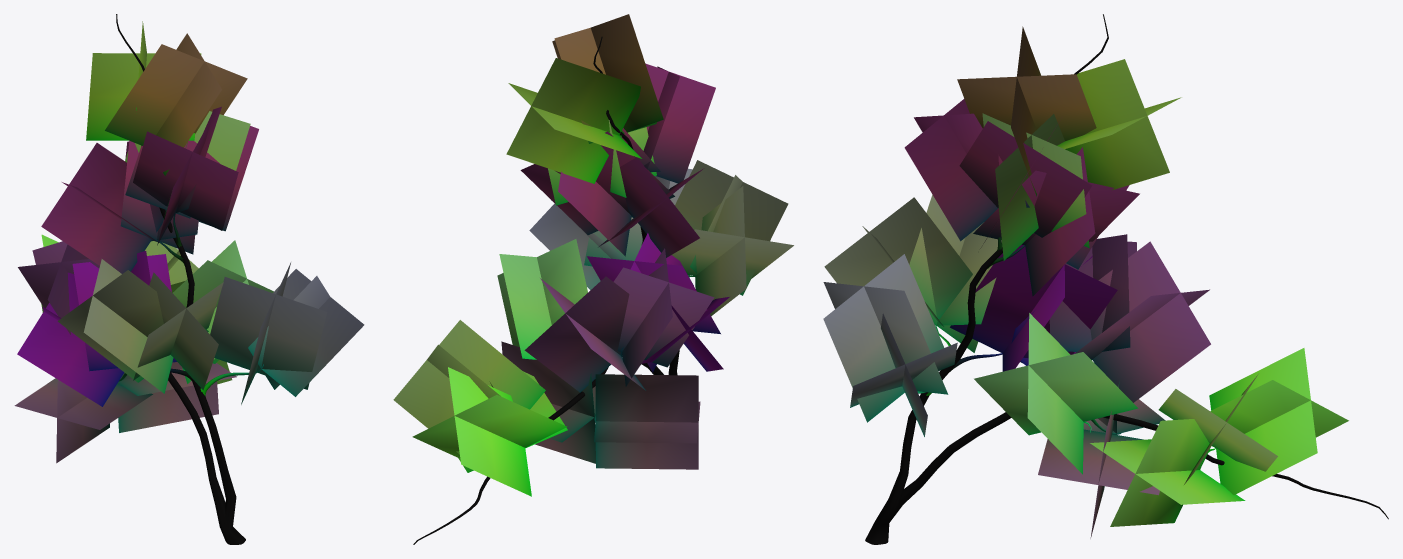
The model's file is URP_P12_Tree_16_LOD_0.fbx.
The picture shows the model from 3 angles, left to right: view 1: azimuth 30°, elevation 25°; view 2: azimuth 150°, elevation 25°; view 3: azimuth 270°, elevation 25°; orthographic projection. The views are drawn at different scales.
Visible parts, largest first — view 1: Tree_16_LOD_0; view 2: Tree_16_LOD_0; view 3: Tree_16_LOD_0.
Part boxes in pixels (x1=…): Tree_16_LOD_0: x1=14, y1=14, x2=364, y2=544; Tree_16_LOD_0: x1=393, y1=14, x2=793, y2=544; Tree_16_LOD_0: x1=823, y1=14, x2=1388, y2=544.
Size of the model in its own units: 186 by 313 by 311.
